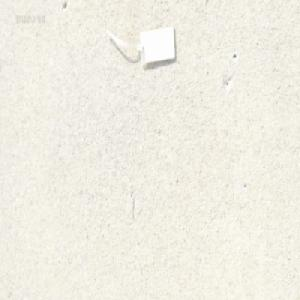LuggageTag: (103, 22, 176, 69)
